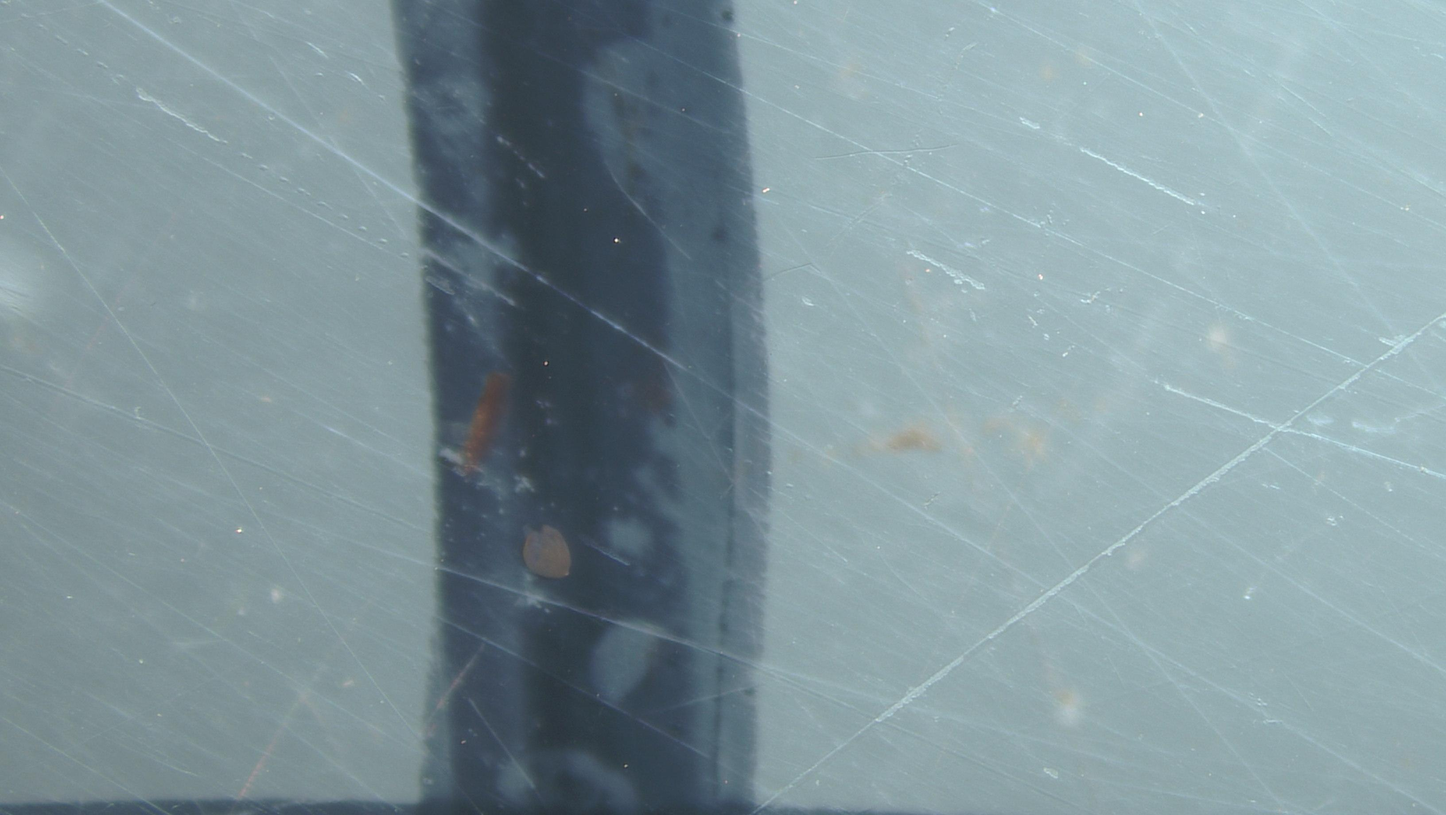live: (522, 525, 571, 579)
